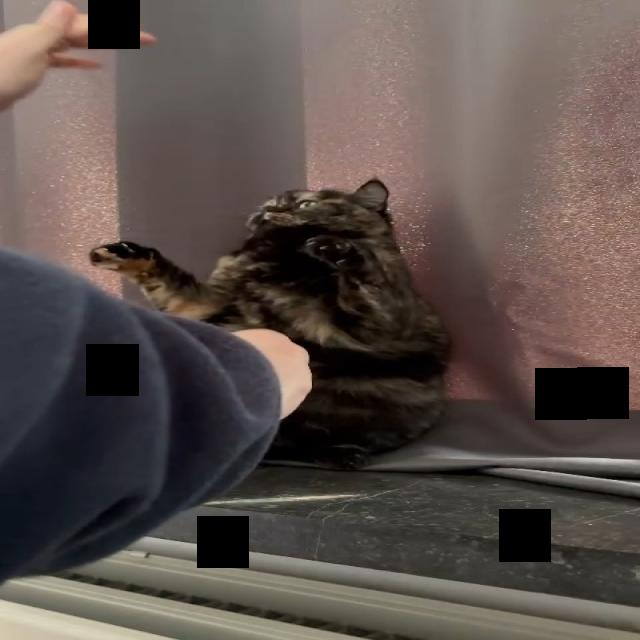authorized: (87, 177, 453, 471)
